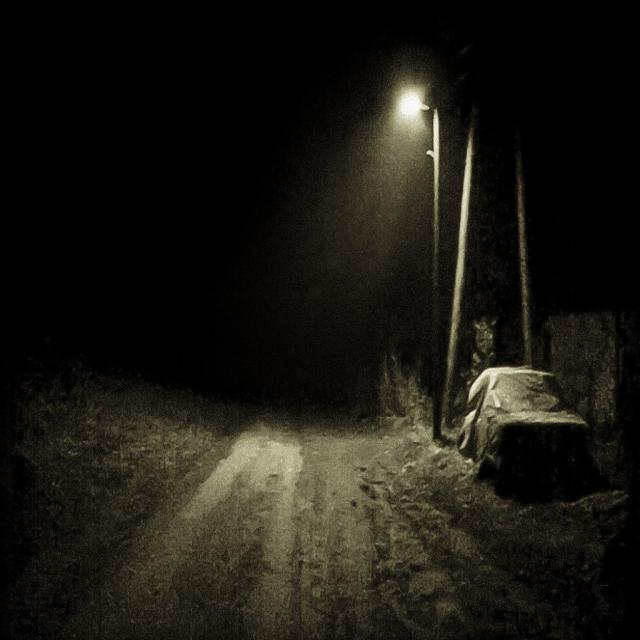Car: (448, 310, 624, 512)
